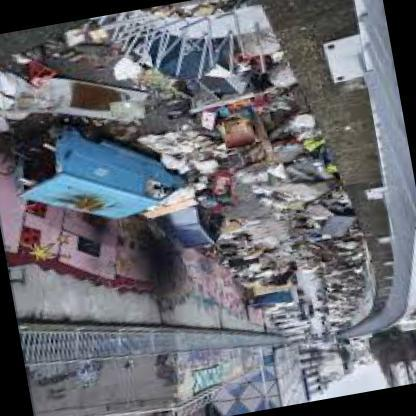Garbage: (121, 0, 293, 121), (220, 101, 322, 191), (268, 176, 361, 248), (0, 52, 78, 117), (154, 122, 226, 188), (316, 245, 365, 326)
